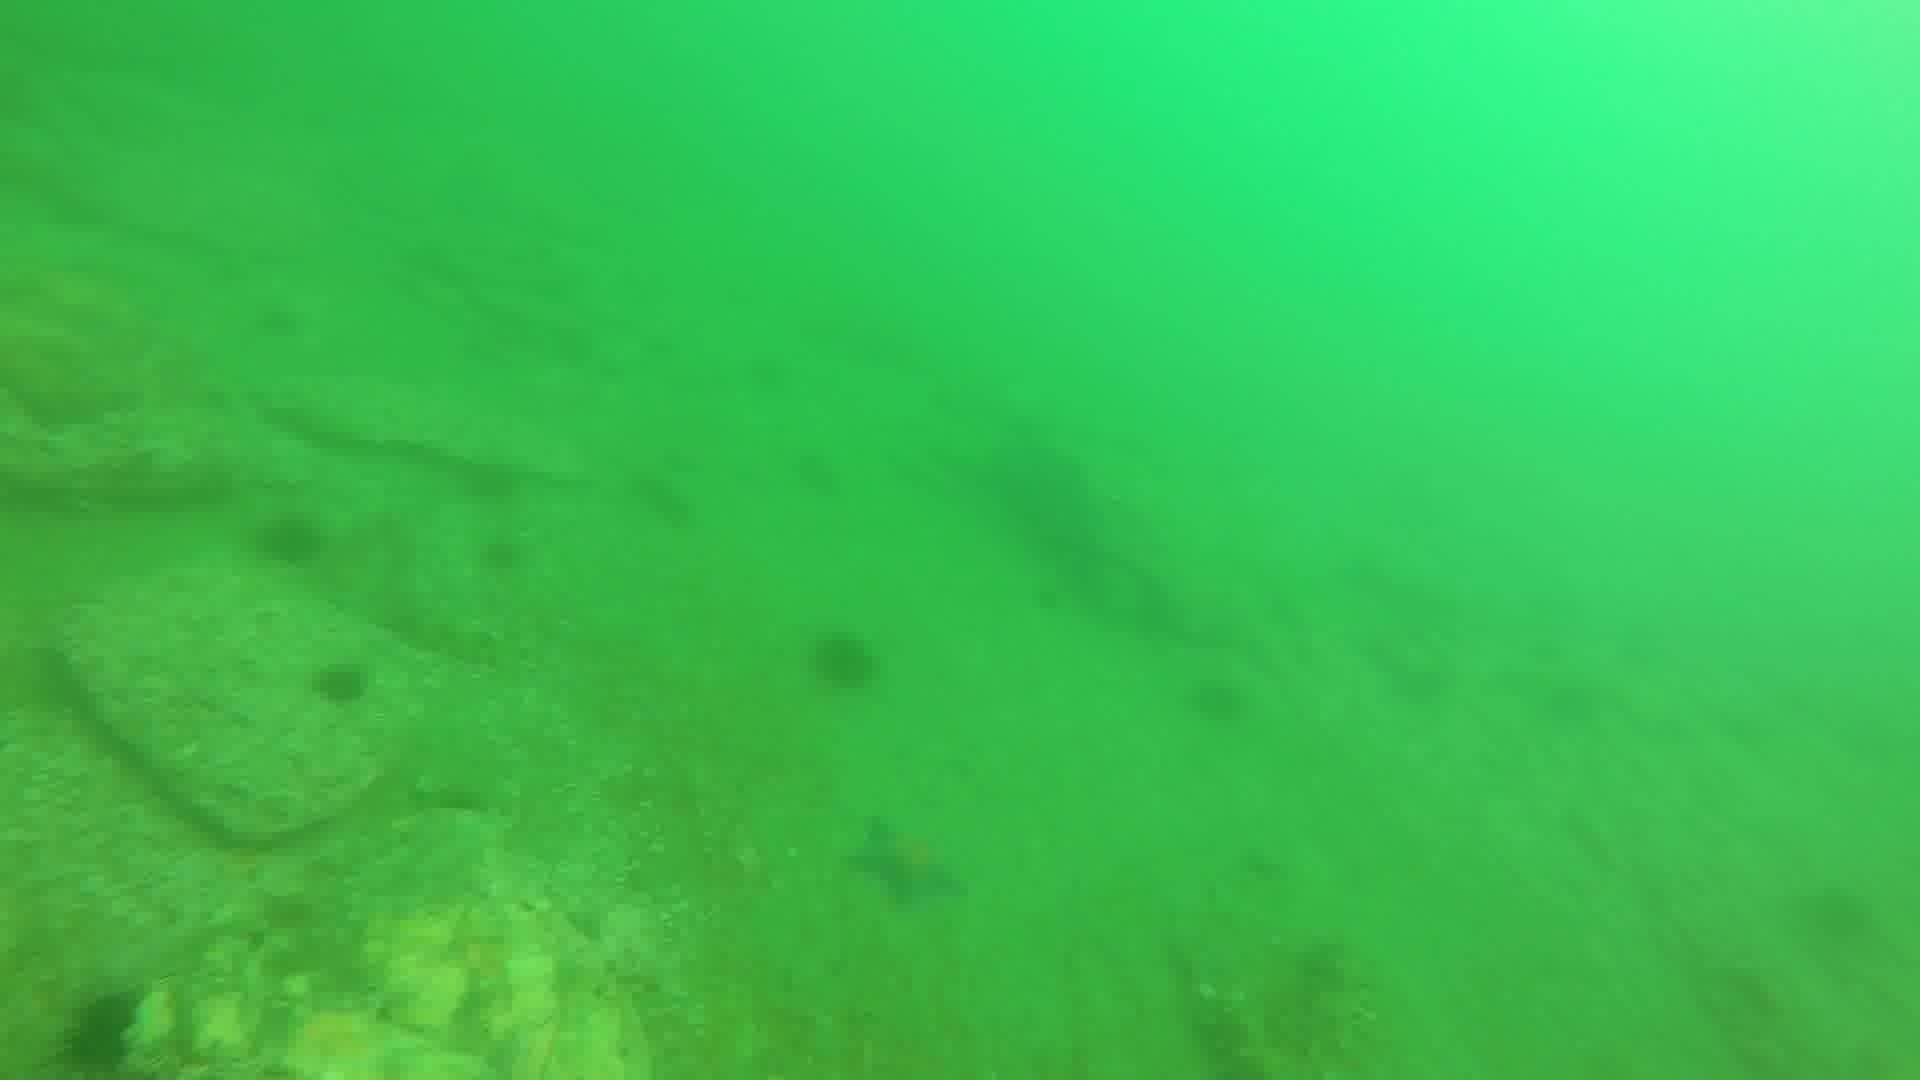echinus: (51, 986, 146, 1073), (804, 626, 884, 694), (249, 506, 328, 571), (1182, 669, 1251, 729), (307, 655, 375, 712), (628, 473, 687, 530), (789, 444, 847, 501), (452, 447, 512, 502), (472, 529, 531, 580)
starfish: (843, 812, 971, 913), (272, 998, 431, 1076)
